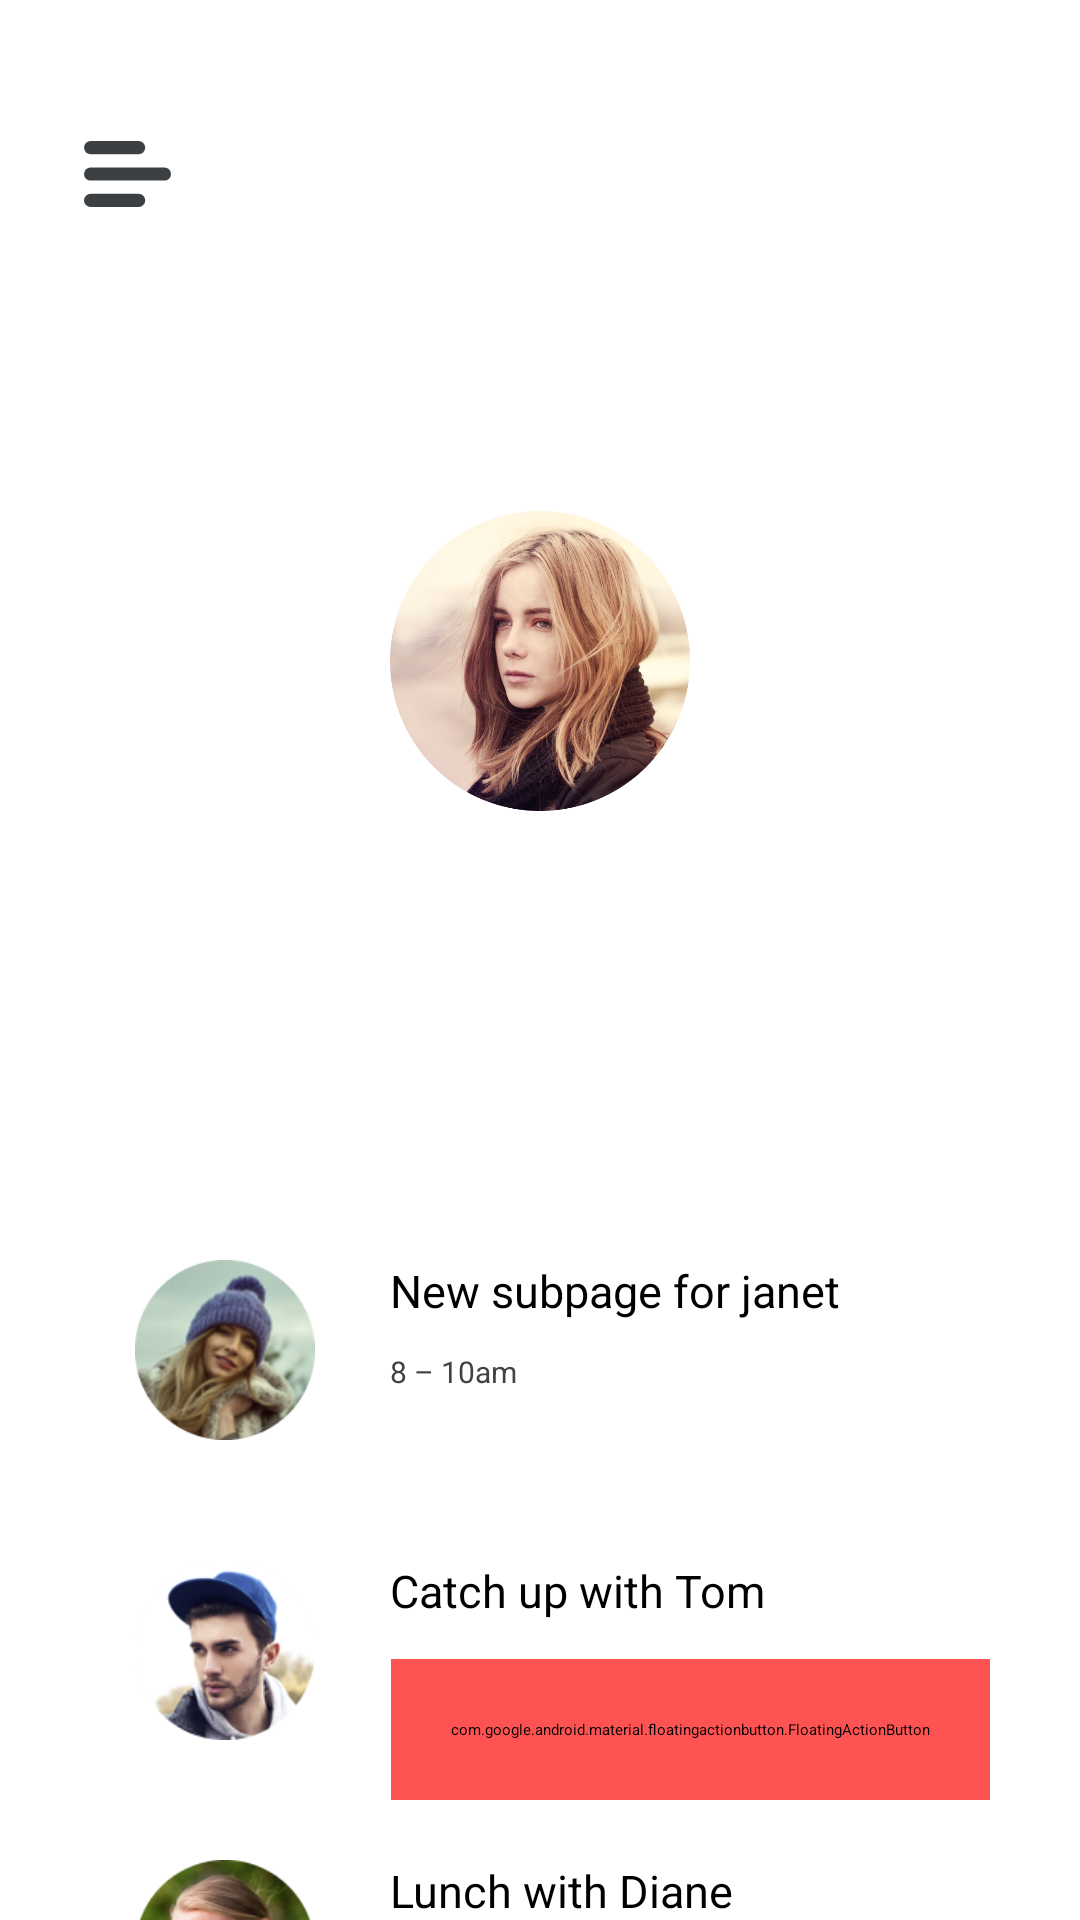

Icon click points for this 1080px x 1920px phone screenshot, format [x,y]:
menu: [127,174]
profile pic: [540,661]
